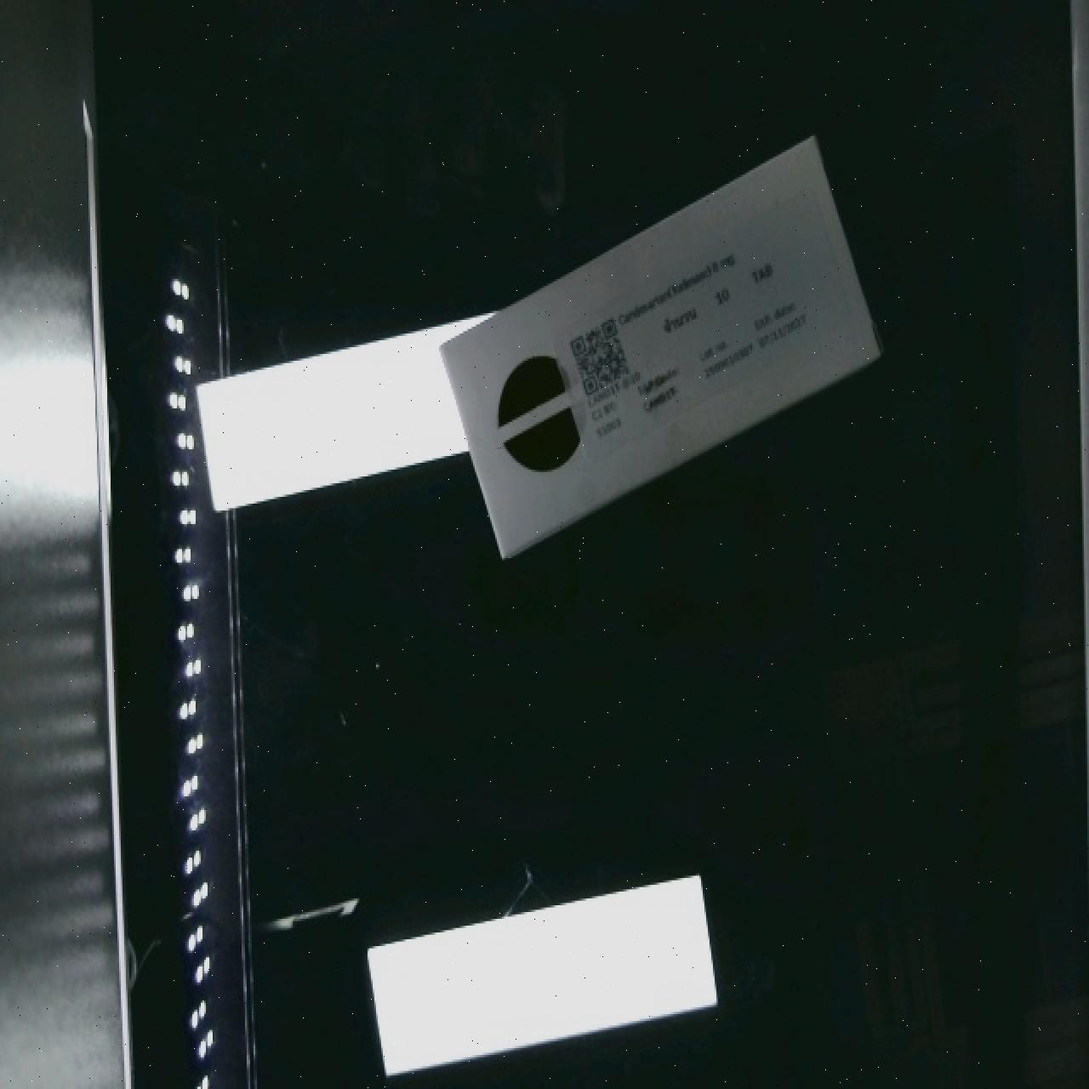qr_code: (548, 297, 653, 429)
